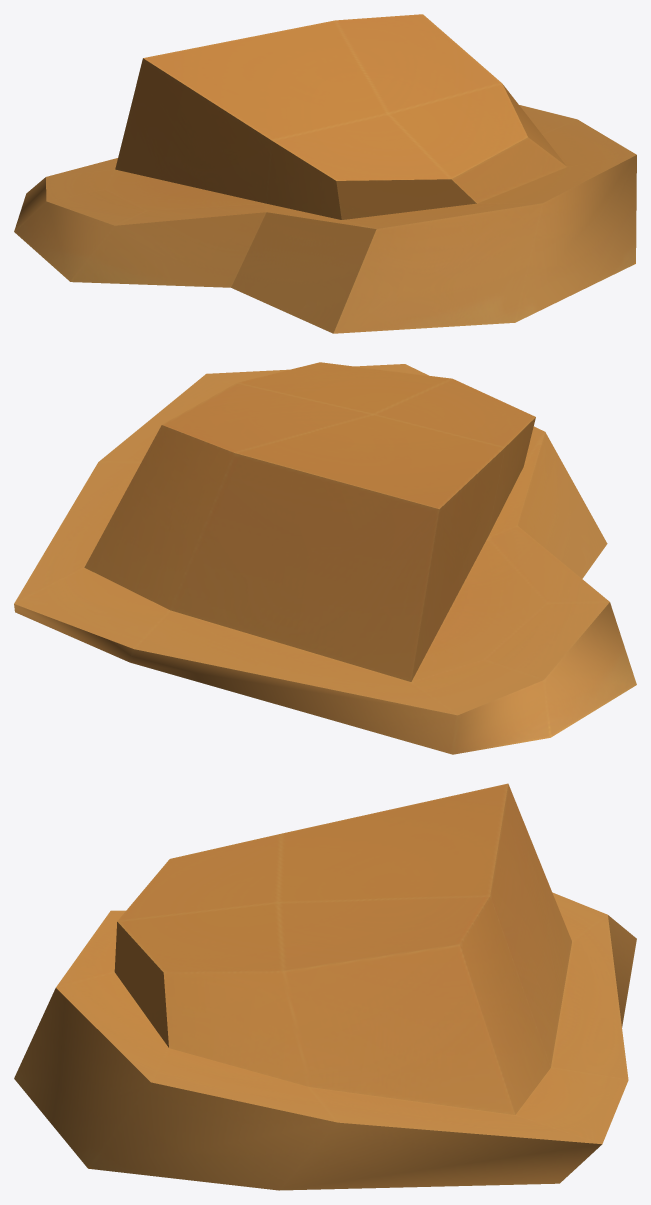
Rendered from desert-stone-big1.fbx.
The picture shows the model from 3 angles, top to bottom: view 1: azimuth 30°, elevation 25°; view 2: azimuth 150°, elevation 25°; view 3: azimuth 270°, elevation 25°; orthographic projection. The views are drawn at different scales.
Parts seen in each view (by area): view 1: pPlane1; view 2: pPlane1; view 3: pPlane1.
Part boxes in pixels (x1,y1,x2,y2): pPlane1: [14, 14, 636, 333]; pPlane1: [14, 362, 636, 754]; pPlane1: [14, 783, 636, 1190].
Bounding box in the file's own units: 5.22 × 1.62 × 4.73.
1 material, 1 textured.
